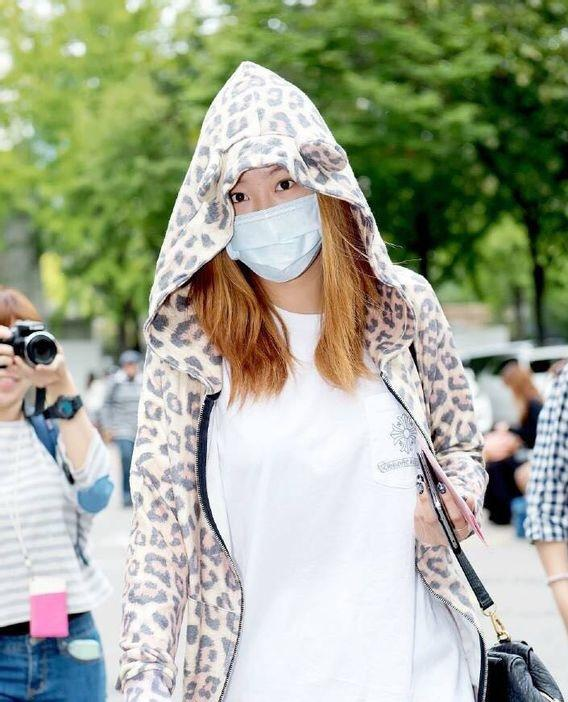OK: (217, 164, 335, 281)
